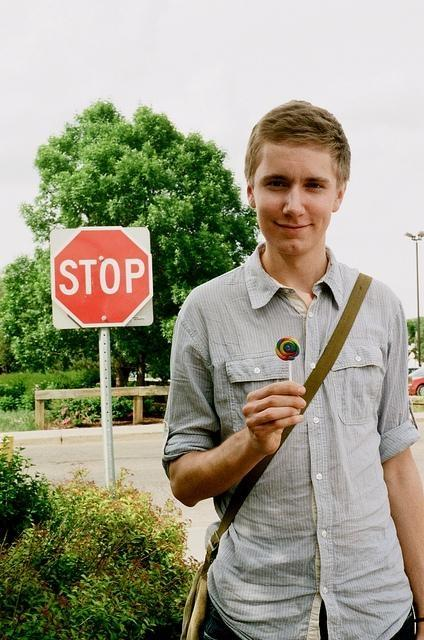car: (408, 366, 424, 396)
